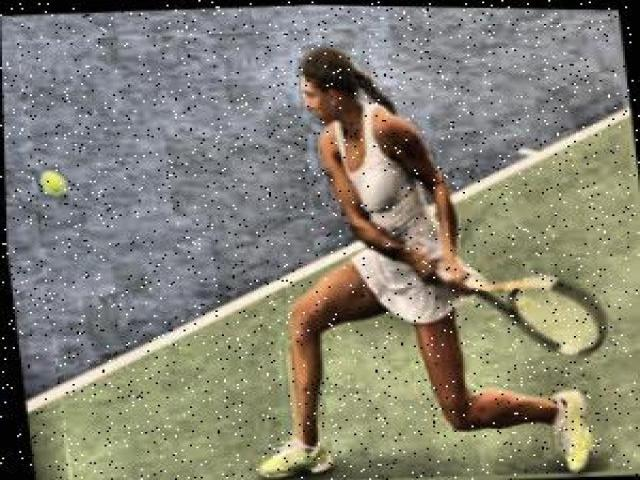tennis-ball: (38, 171, 68, 193)
